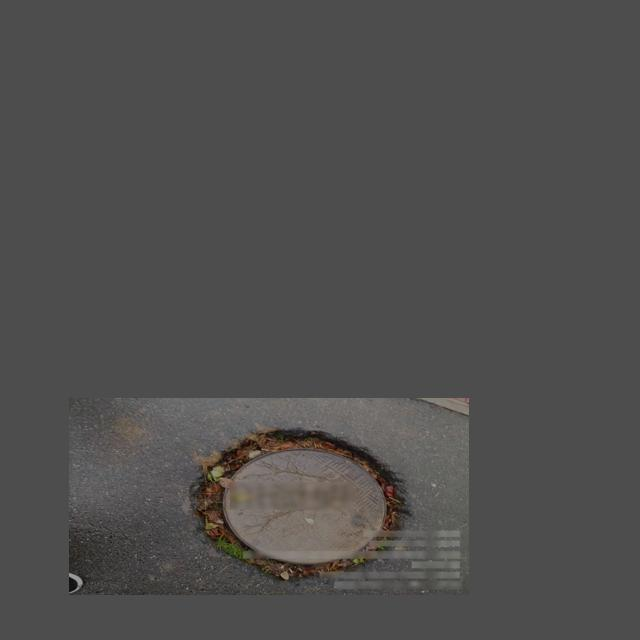circle: (189, 429, 413, 578)
